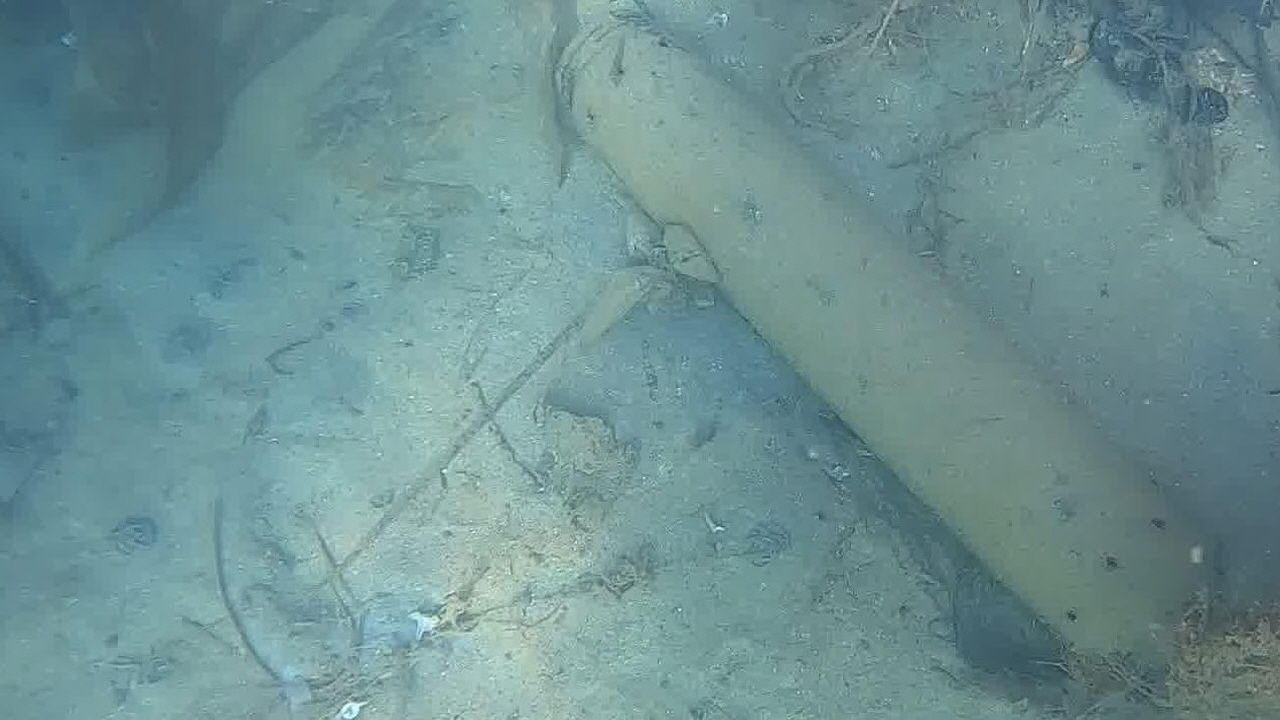eel fish trap: (553, 19, 1203, 651)
